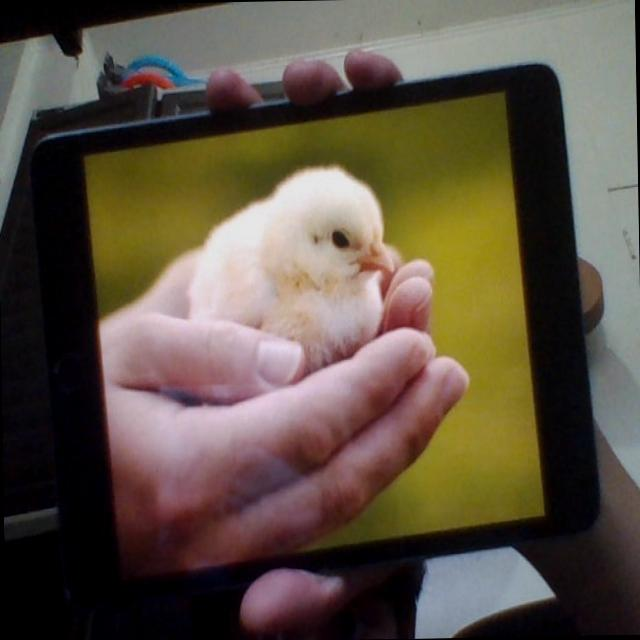Healthy: (184, 162, 398, 377)
